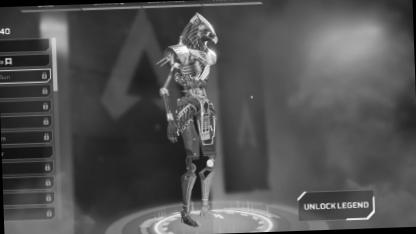Target: (164, 9, 224, 190)
